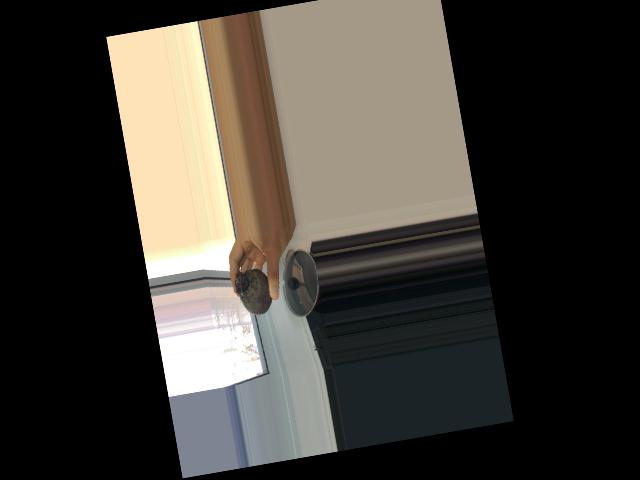beet: (230, 253, 275, 318)
